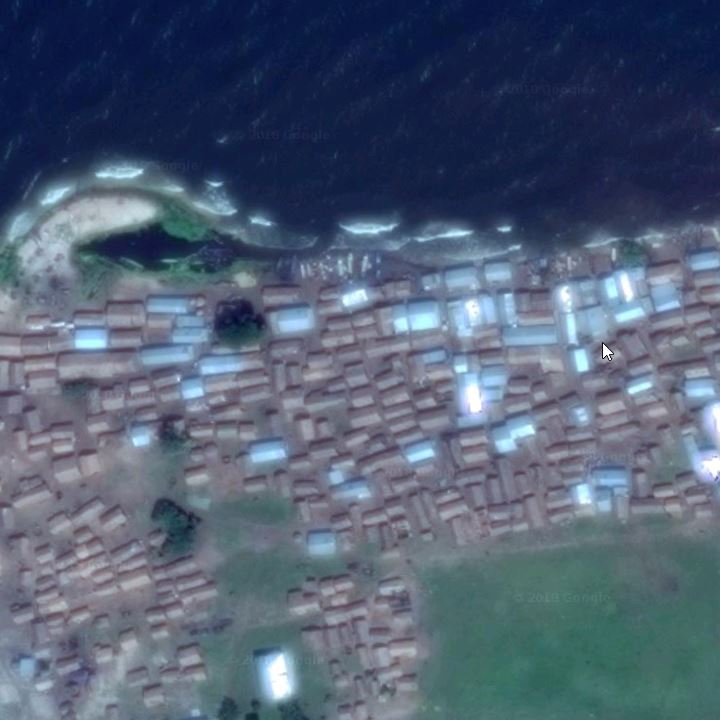boat: (672, 228, 692, 258), (342, 249, 357, 283), (535, 248, 548, 285), (372, 249, 384, 286), (681, 223, 694, 256), (358, 251, 370, 283), (694, 219, 706, 251), (589, 243, 598, 283), (304, 257, 315, 283), (334, 254, 344, 280), (274, 253, 284, 279), (299, 258, 308, 285), (611, 238, 618, 272), (290, 255, 298, 284), (567, 245, 572, 283)
